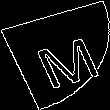M_N: (16, 23, 94, 87)
